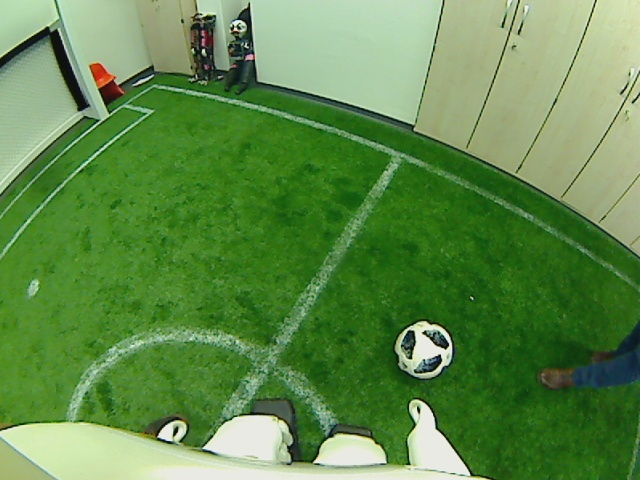ball: (393, 316, 455, 380)
